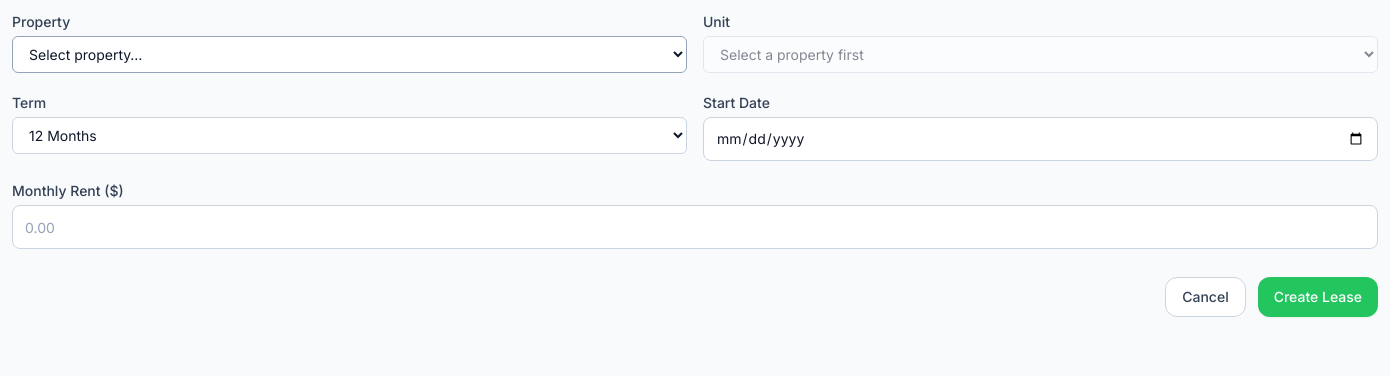
it: LeaseForm › shows validation errors for required fields
Click the button "Create Lease": (1318, 297) x1=1258 y1=277 x2=1378 y2=317
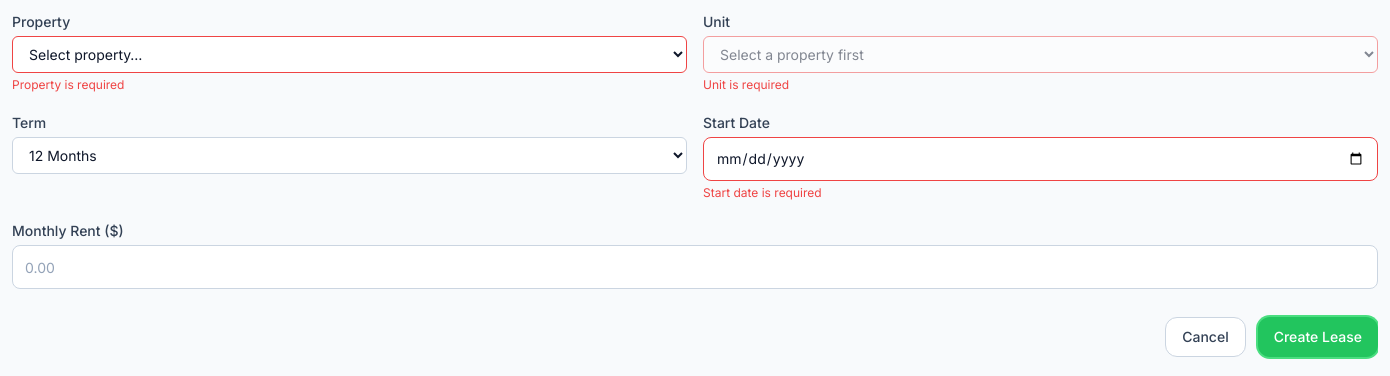
Expected: the text "Property is required" is shown, x1=12 y1=77 x2=124 y2=92
